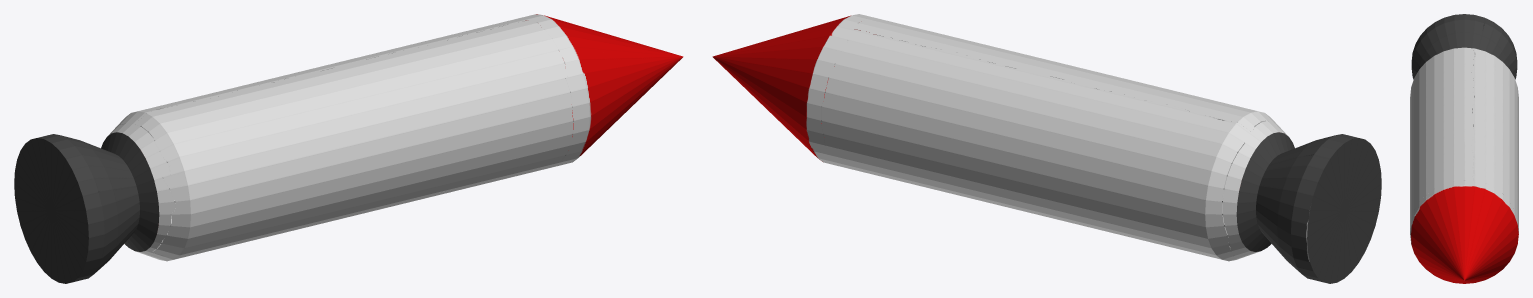
File: missile.fbx
The picture shows the model from 3 angles, left to right: view 1: azimuth 30°, elevation 25°; view 2: azimuth 150°, elevation 25°; view 3: azimuth 270°, elevation 25°; orthographic projection. The views are drawn at different scales.
Parts seen in each view (by area): view 1: Rocket; view 2: Rocket; view 3: Rocket.
Part boxes in pixels (x1,y1,x2,y2): Rocket: [14, 14, 683, 283]; Rocket: [712, 14, 1381, 283]; Rocket: [1410, 14, 1518, 283].
Bounding box in the file's own units: 200 × 200 × 951.
Materials: 1 (1 with a texture image).
